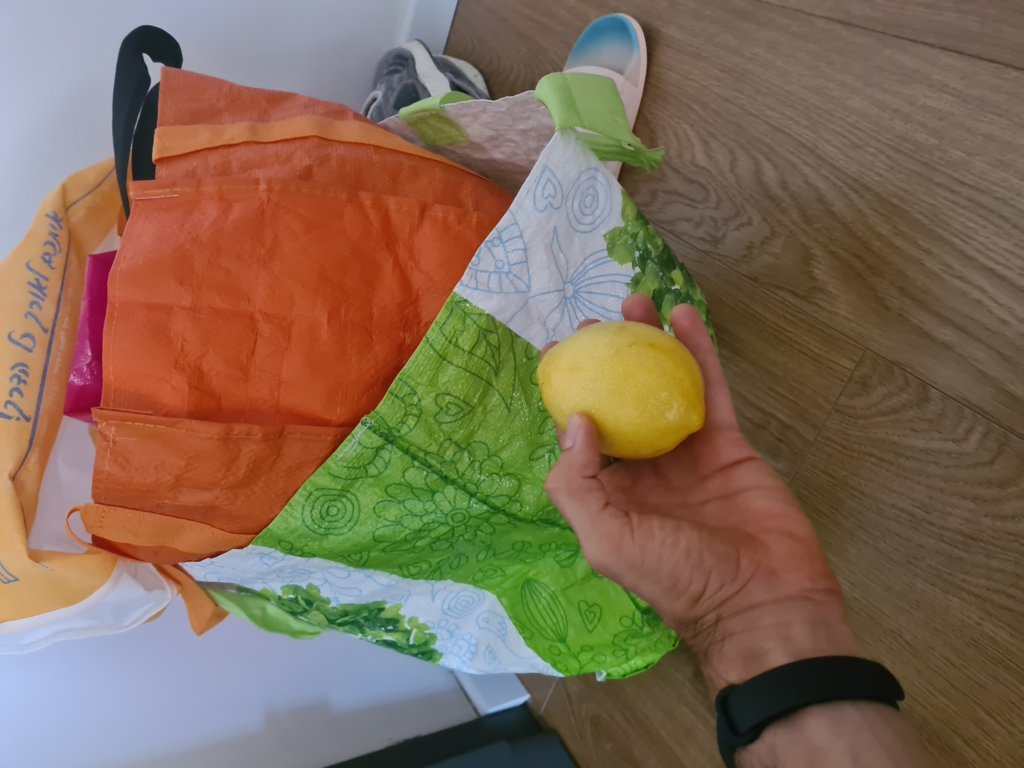lemon: (536, 322, 707, 463)
